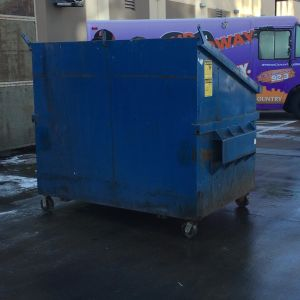Dumpster: (19, 25, 266, 245)
